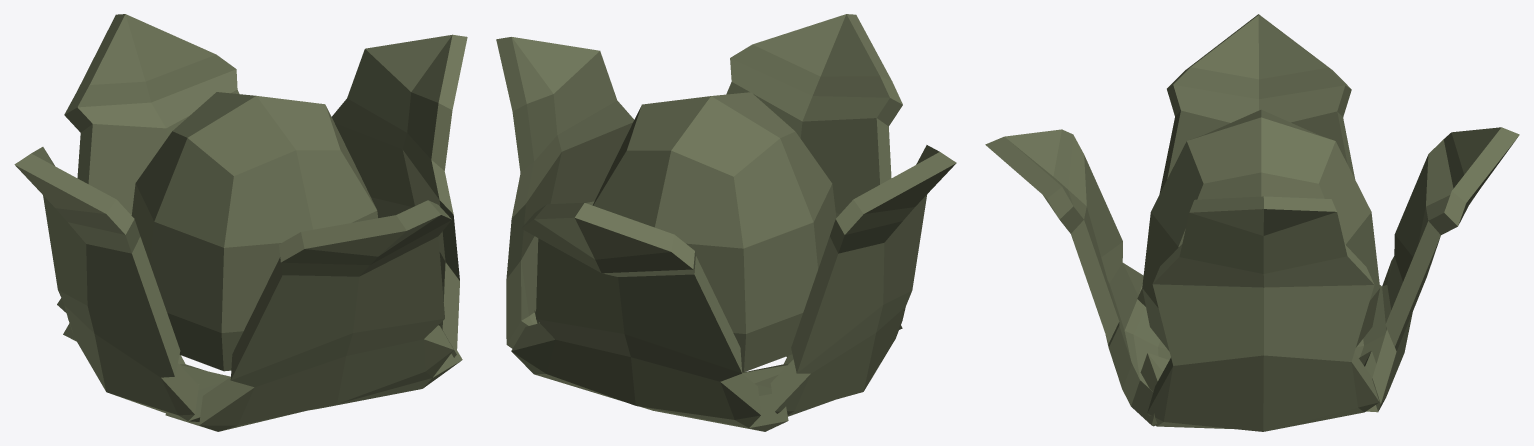
Rendered from Lettuce_3.glb.
The picture shows the model from 3 angles, left to right: view 1: azimuth 30°, elevation 25°; view 2: azimuth 150°, elevation 25°; view 3: azimuth 270°, elevation 25°; orthographic projection. The views are drawn at different scales.
Visible parts, largest first — view 1: Lettuce_3; view 2: Lettuce_3; view 3: Lettuce_3.
Boxes of the visible parts, box(x1,y1,x2,y2) form: Lettuce_3: box(14, 14, 467, 431); Lettuce_3: box(496, 14, 956, 431); Lettuce_3: box(985, 14, 1519, 431).
Bounding box in the file's own units: 0.6232 × 0.3816 × 0.6764.
